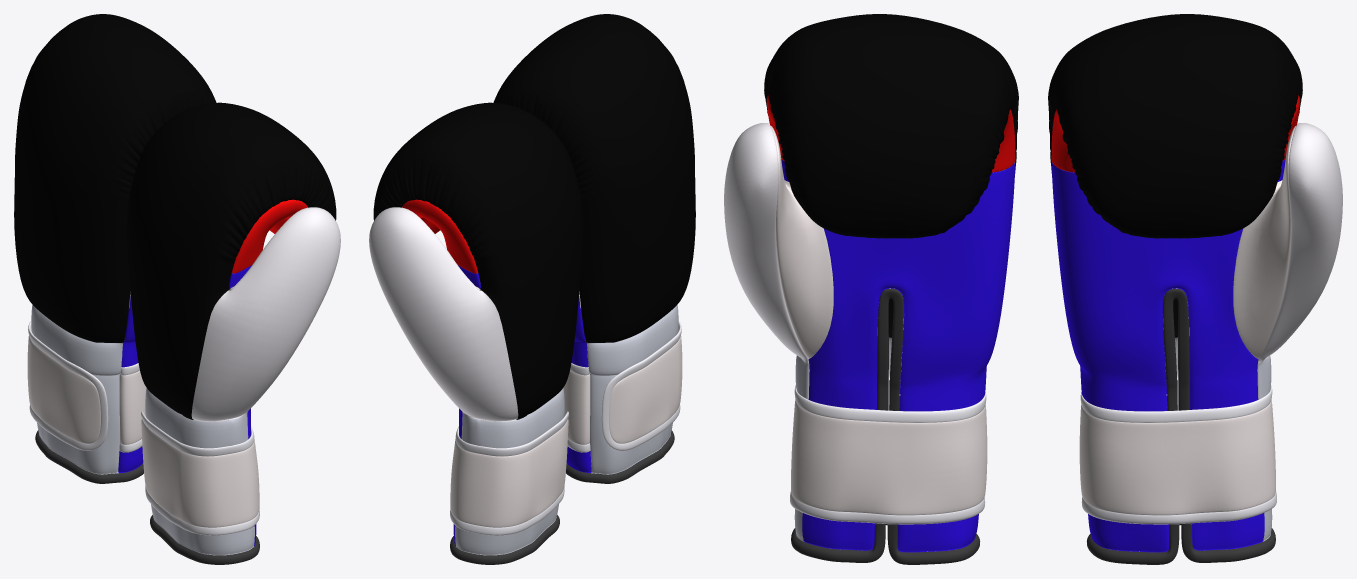
File: Boxing_Gloves_13_Demo_0114.glb
3 views of the same model, side by side, from view 1: azimuth 30°, elevation 25°; view 2: azimuth 150°, elevation 25°; view 3: azimuth 270°, elevation 25° (orthographic). The views are drawn at different scales.
Parts seen in each view (by area): view 1: OutterPalm, OutterThumb, WristOutline, Wrist, Strap, Outline, Fingers, InnerPalm; view 2: OutterPalm, OutterThumb, WristOutline, Wrist, Strap, Outline, Fingers, InnerPalm; view 3: OutterPalm, InnerPalm, WristOutline, OutterThumb, InnerThumb, Outline, Strap, Fingers, Wrist.
Boxes of the visible parts, bbox=[...] form: OutterPalm: bbox=[14, 14, 336, 419]; OutterThumb: bbox=[14, 207, 340, 421]; WristOutline: bbox=[27, 336, 259, 527]; Wrist: bbox=[31, 304, 254, 555]; Strap: bbox=[28, 321, 259, 535]; Outline: bbox=[35, 430, 259, 564]; Fingers: bbox=[231, 199, 307, 273]; InnerPalm: bbox=[118, 265, 256, 545]; OutterPalm: bbox=[373, 14, 695, 419]; OutterThumb: bbox=[369, 207, 695, 421]; WristOutline: bbox=[450, 336, 682, 527]; Wrist: bbox=[455, 304, 678, 555]; Strap: bbox=[450, 321, 681, 535]; Outline: bbox=[450, 430, 674, 564]; Fingers: bbox=[402, 199, 478, 273]; InnerPalm: bbox=[453, 265, 591, 545]; OutterPalm: bbox=[764, 14, 1302, 337]; InnerPalm: bbox=[781, 159, 1285, 552]; WristOutline: bbox=[791, 399, 1275, 515]; OutterThumb: bbox=[724, 123, 1342, 395]; InnerThumb: bbox=[771, 126, 1295, 358]; Outline: bbox=[791, 288, 1275, 564]; Strap: bbox=[790, 385, 1276, 524]; Fingers: bbox=[766, 95, 1300, 172]; Wrist: bbox=[794, 337, 1272, 541].
Size of the model in its own units: 4.22 by 10.23 by 10.61.
